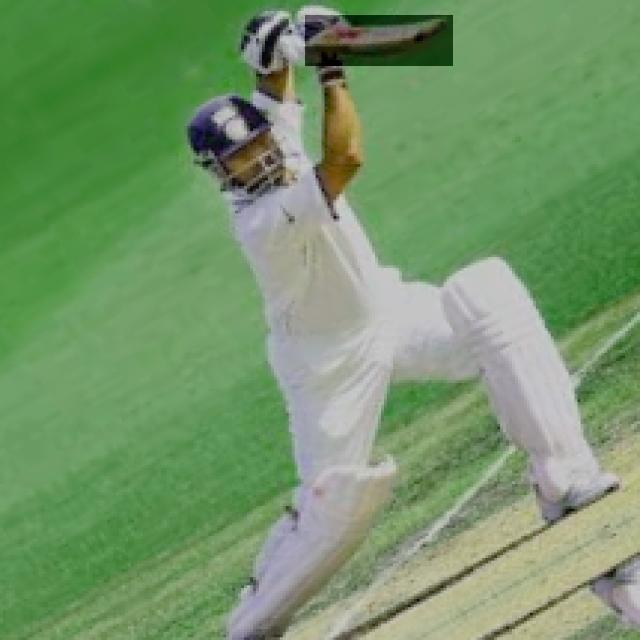bat: (306, 16, 453, 69)
toe: (416, 20, 445, 48)
